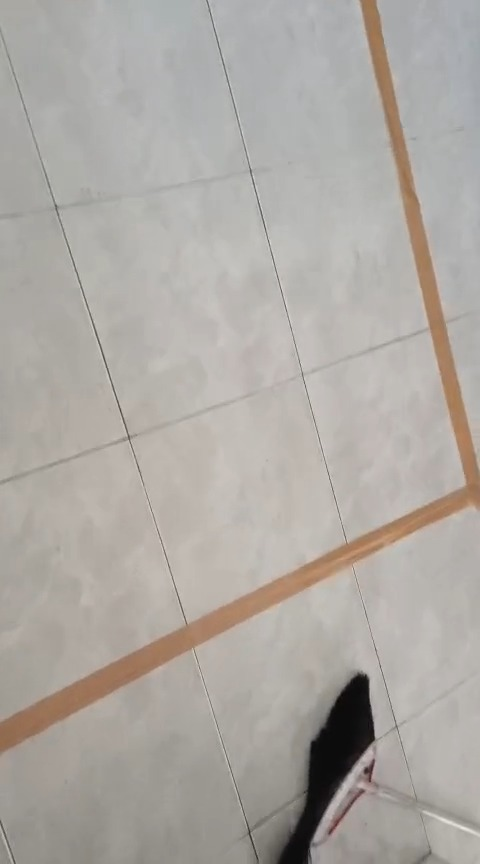floor marking: (0, 0, 479, 752)
